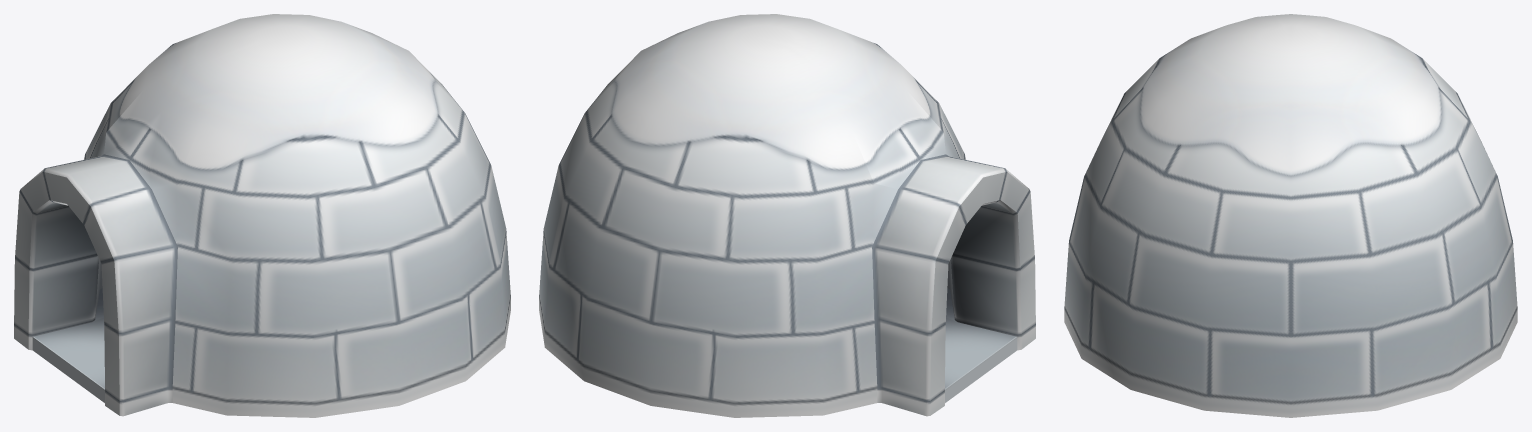
File: HOS0910001.FBX
3 renders of one model, left to right at view 1: azimuth 30°, elevation 25°; view 2: azimuth 150°, elevation 25°; view 3: azimuth 270°, elevation 25°, orthographic.
Visible parts, largest first — view 1: smHOS0910001; view 2: smHOS0910001; view 3: smHOS0910001.
Boxes of the visible parts, x1=… form: smHOS0910001: x1=14, y1=14, x2=510, y2=417; smHOS0910001: x1=539, y1=14, x2=1035, y2=417; smHOS0910001: x1=1064, y1=14, x2=1517, y2=417.
Size of the model in its own units: 231 by 152 by 218.
1 material, 1 textured.
